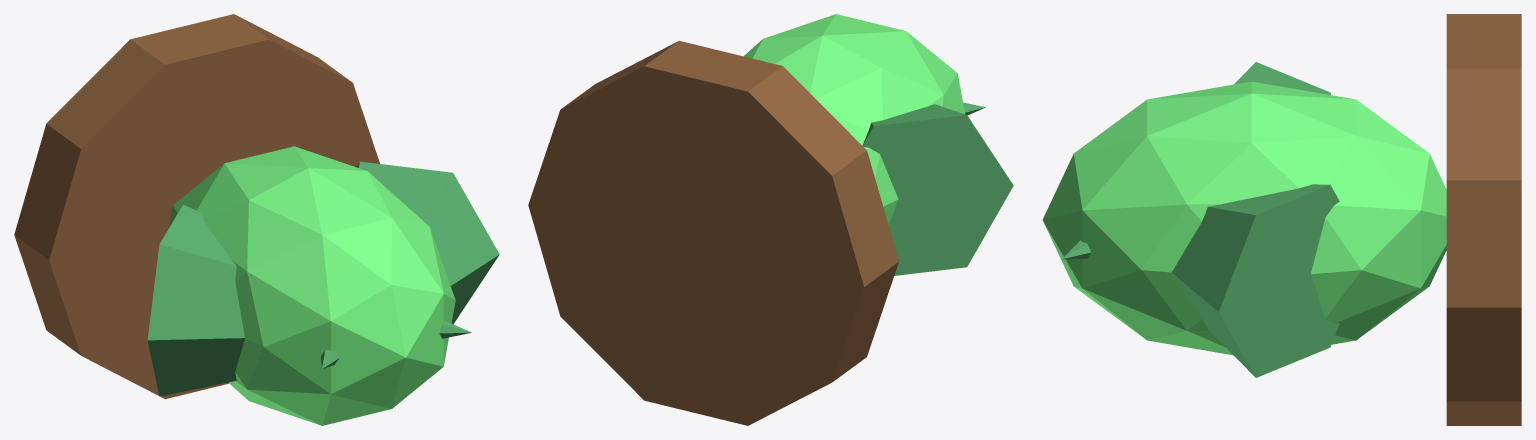
File: regenerative_healing_pod.glb
3 views of the same model, side by side, from view 1: azimuth 30°, elevation 25°; view 2: azimuth 150°, elevation 25°; view 3: azimuth 270°, elevation 25° (orthographic). The views are drawn at different scales.
Parts seen in each view (by area): view 1: root_base, seed, leafL, leafR; view 2: root_base, leafL, seed; view 3: seed, root_base, leafR, leafL.
Boxes of the visible parts, x1,y1,x2,y2 form: root_base: [14, 14, 379, 399]; seed: [168, 146, 455, 425]; leafL: [147, 204, 471, 396]; leafR: [321, 161, 499, 369]; root_base: [528, 40, 898, 425]; leafL: [862, 104, 1013, 275]; seed: [743, 14, 964, 224]; seed: [1042, 81, 1446, 355]; root_base: [1446, 14, 1521, 425]; leafR: [1171, 184, 1339, 377]; leafL: [1062, 62, 1331, 259].
Size of the model in its own units: 1.05 by 0.9511 by 1.15.
